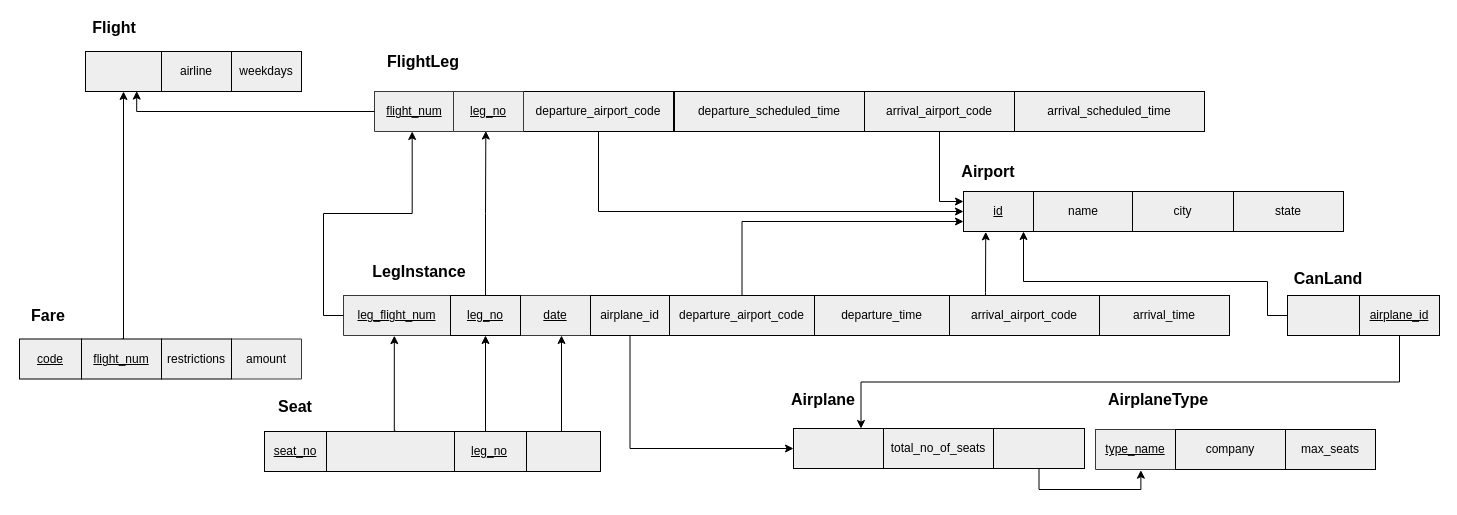
This 1457x515 diagram has some shape labels left out. The centre of each missing label's shape, as x and y in pixels:
aiplane_id: the point at 838,448
airplane_type: the point at 1038,448
airport_id: the point at 1323,315
leg_date: the point at 563,451
leginstance_flight_num: the point at 390,451
num: the point at 123,71
